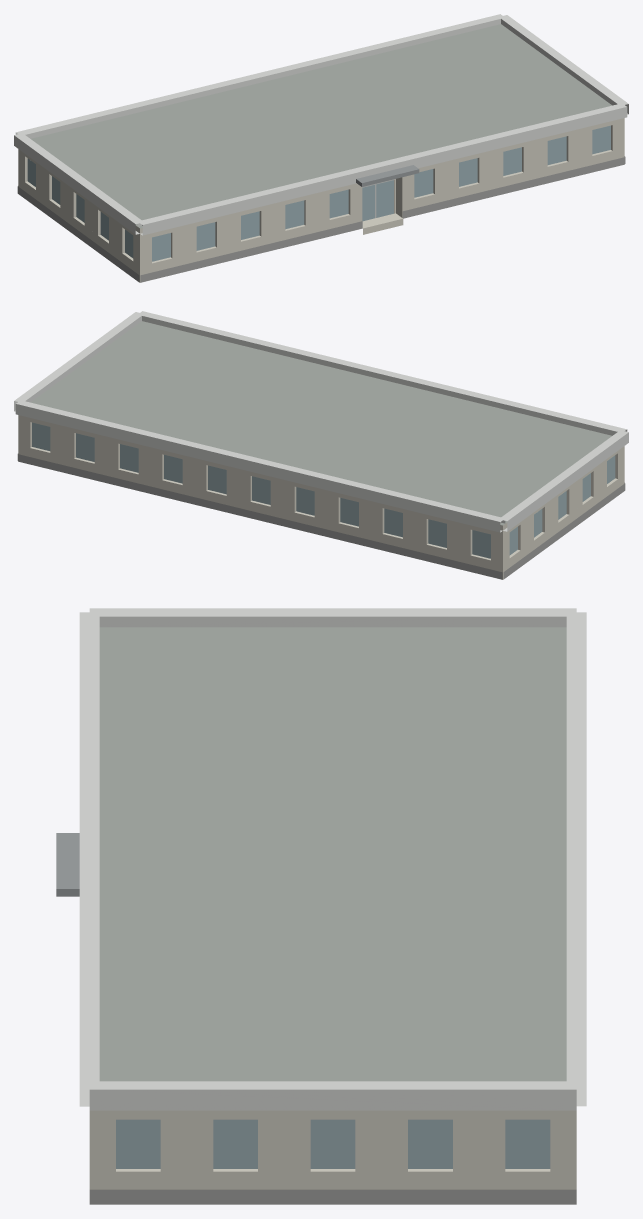
The picture shows the model from 3 angles, top to bottom: view 1: azimuth 30°, elevation 25°; view 2: azimuth 150°, elevation 25°; view 3: azimuth 270°, elevation 25°; orthographic projection. The views are drawn at different scales.
Parts seen in each view (by area): view 1: b115951804__roof, b115951804__wall, b115951804__trim, b115951804__glass, b115951804__base, b115951804__canopy, b115951804__entranceThreshold_0; view 2: b115951804__roof, b115951804__wall, b115951804__trim, b115951804__glass, b115951804__base; view 3: b115951804__roof, b115951804__trim, b115951804__wall, b115951804__glass, b115951804__base, b115951804__canopy.
Boxes of the visible parts, box(x1,y1,x2,y2) form: b115951804__roof: box(31, 24, 611, 282); b115951804__wall: box(18, 118, 624, 282); b115951804__trim: box(14, 14, 628, 235); b115951804__glass: box(27, 125, 610, 261); b115951804__base: box(17, 156, 625, 282); b115951804__canopy: box(356, 165, 419, 186); b115951804__entranceThreshold_0: box(362, 213, 403, 234); b115951804__roof: box(31, 321, 611, 579); b115951804__wall: box(18, 415, 624, 579); b115951804__trim: box(14, 311, 628, 532); b115951804__glass: box(32, 422, 615, 558); b115951804__base: box(17, 453, 625, 579); b115951804__roof: box(99, 627, 566, 1081); b115951804__trim: box(79, 608, 586, 1110); b115951804__wall: box(89, 1110, 576, 1189); b115951804__glass: box(116, 1119, 550, 1168); b115951804__base: box(89, 1189, 576, 1204); b115951804__canopy: box(56, 833, 79, 896).
Bounding box in the file's own units: 34.36 × 4.35 × 15.99.
